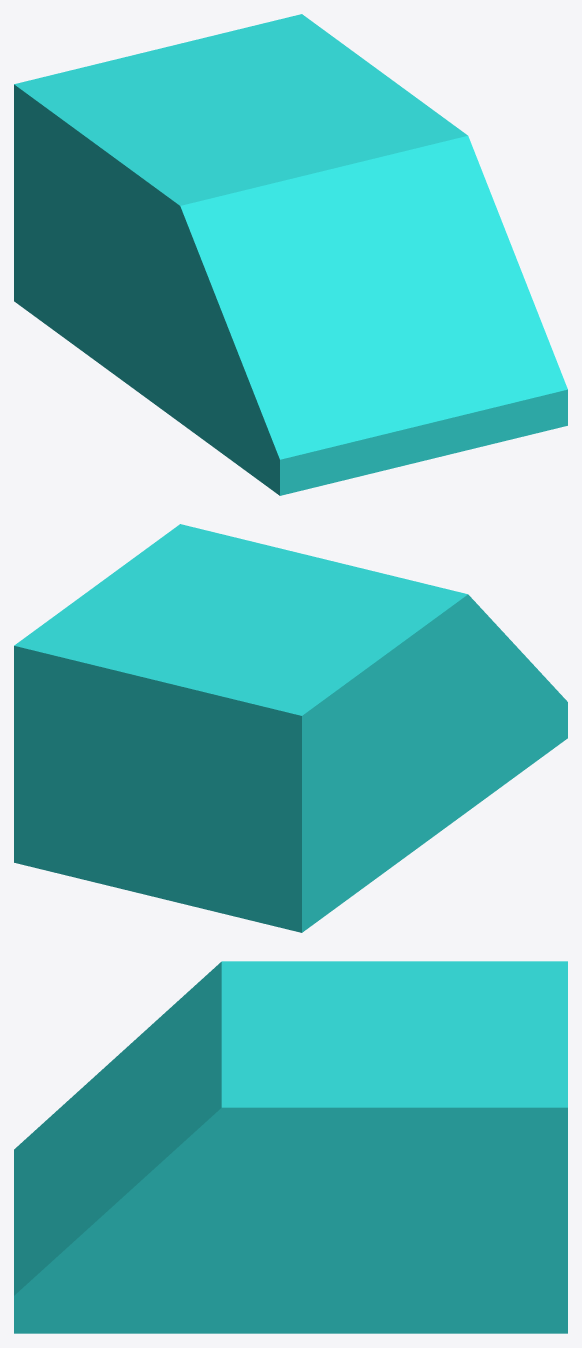
The model's file is XPLight.fbx.
The picture shows the model from 3 angles, top to bottom: view 1: azimuth 30°, elevation 25°; view 2: azimuth 150°, elevation 25°; view 3: azimuth 270°, elevation 25°; orthographic projection. The views are drawn at different scales.
Visible parts, largest first — view 1: XPLight; view 2: XPLight; view 3: XPLight.
Boxes of the visible parts, <box> form: XPLight: <box>14,14,567,495</box>; XPLight: <box>14,524,567,932</box>; XPLight: <box>14,961,567,1333</box>.
Bounding box in the file's own units: 5 × 3.6 × 8.
